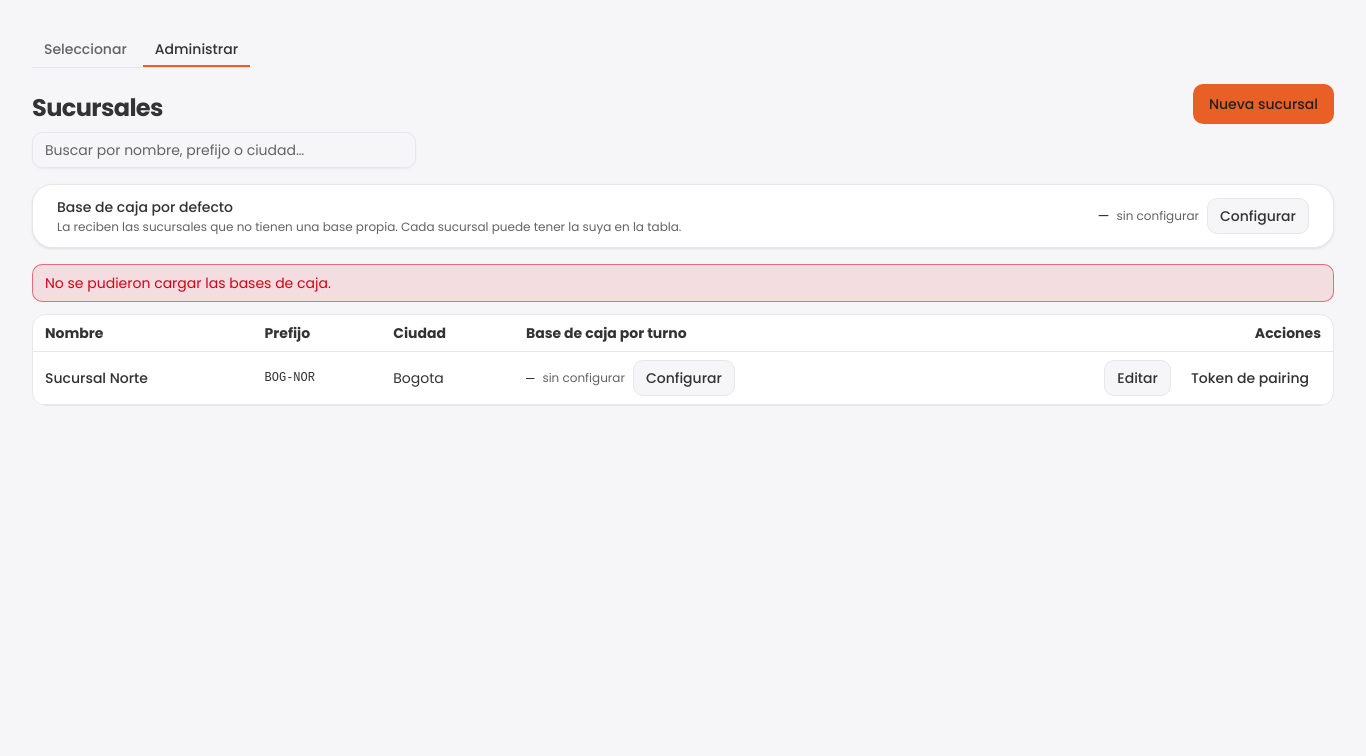
Test: SeleccionarSucursal unified page › T5: clicking "Editar" opens the form pre-filled from the row
What coordinates should you click on to do the following:
click the button with test id "sucursal-edit-11111111-1111-1111-1111-111111111111"
I would click on:
 (1138, 378)
Its box is [1104,360,1171,396].
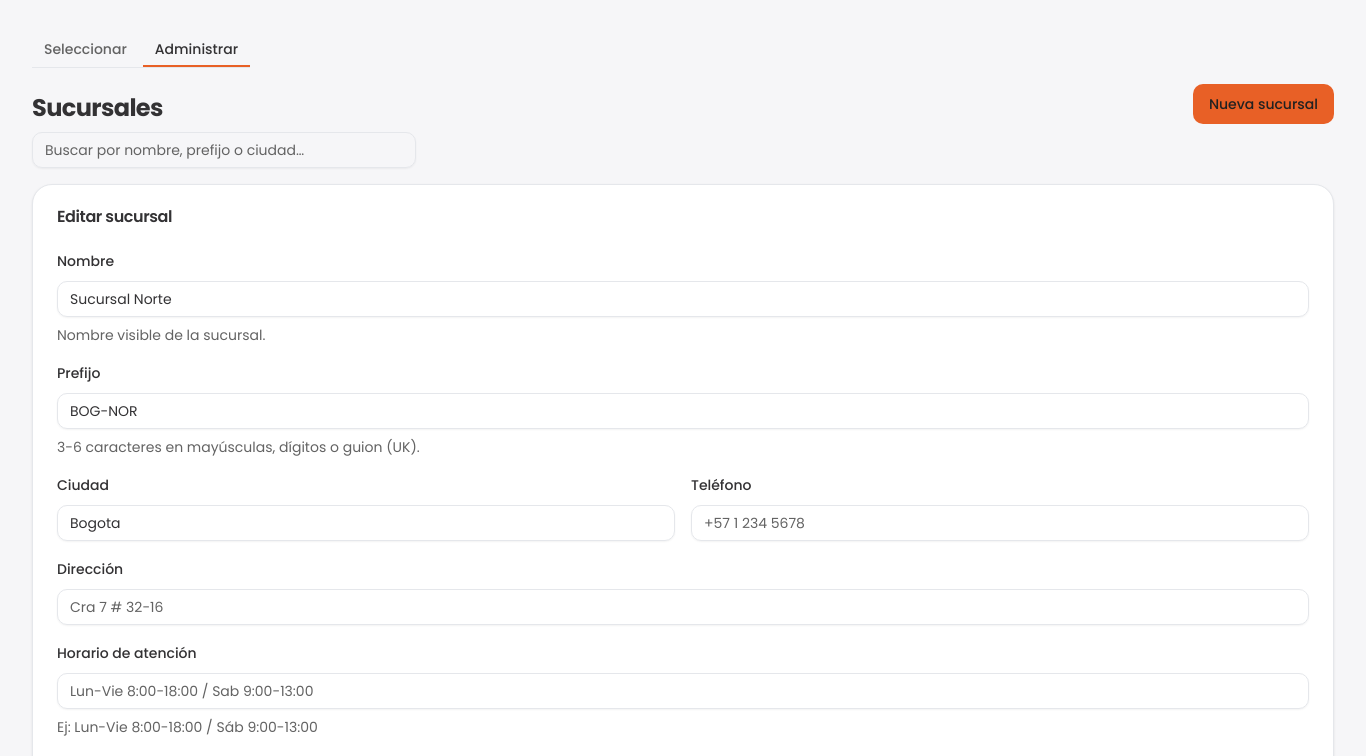
Expected: the field with test id "sucursal-field-nombre" holds "Sucursal Norte", [57,281,1309,317]
Expected: the field with test id "sucursal-field-prefijo" holds "BOG-NOR", [57,393,1309,429]
